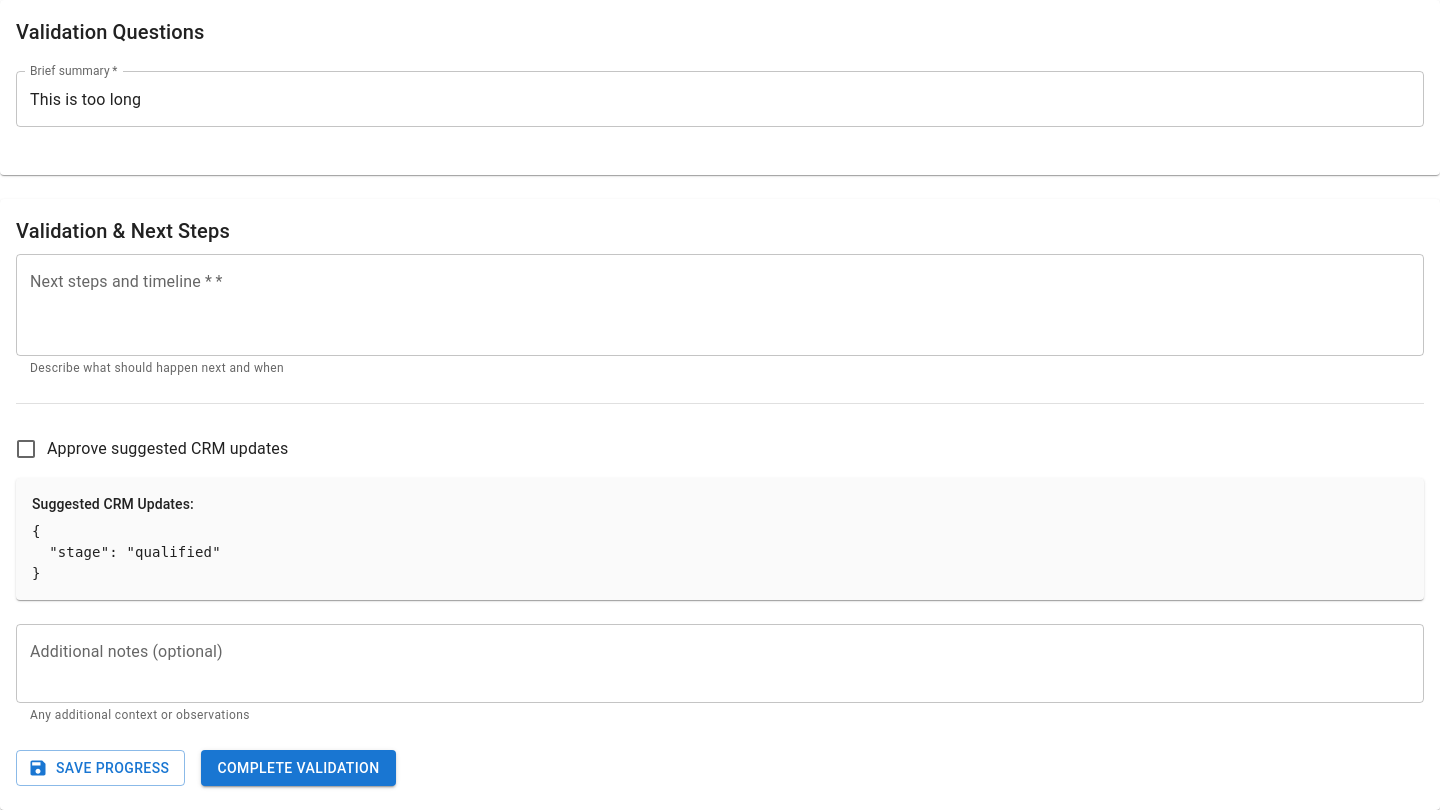
Test: ValidationForm › Form Validation › validates text field maximum length
The image size is (1440, 810).
(page scrolled)
What coordinates should you click on to do the following:
click the button "Complete Validation"
I would click on:
 (298, 768)
Its box is left=201, top=750, right=396, bottom=786.
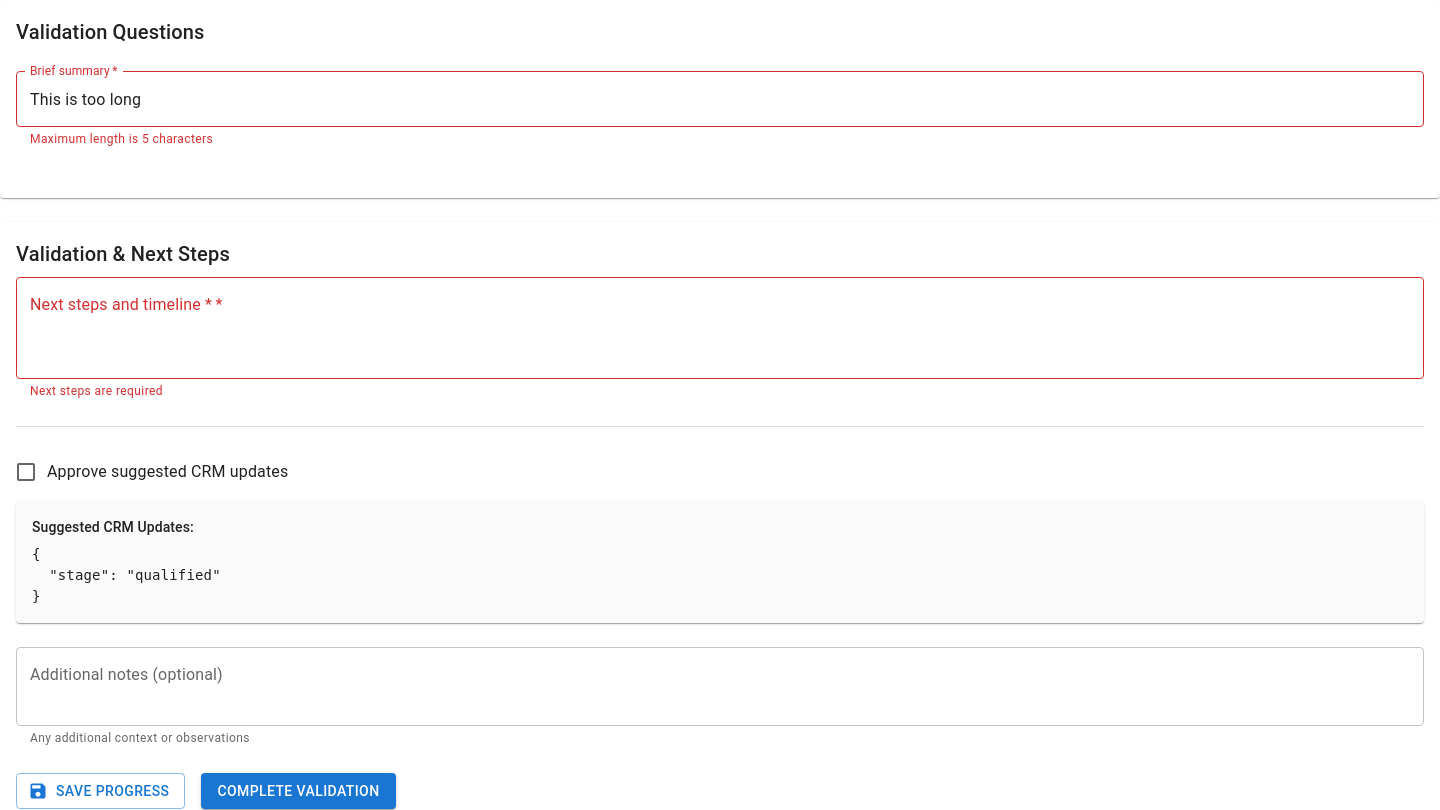
expect the text "Maximum length is 5 characters" is shown: met, box left=30, top=132, right=213, bottom=146
